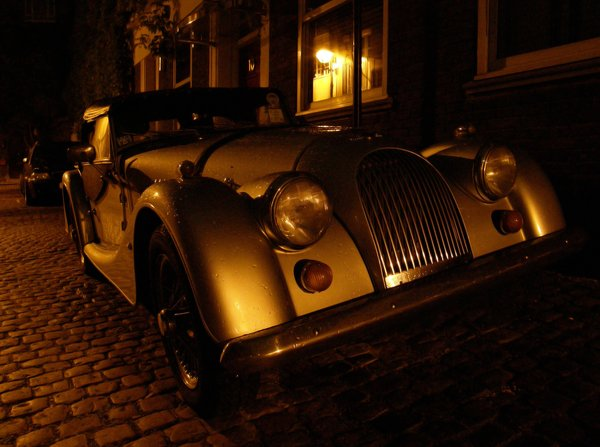car: (57, 85, 582, 406)
